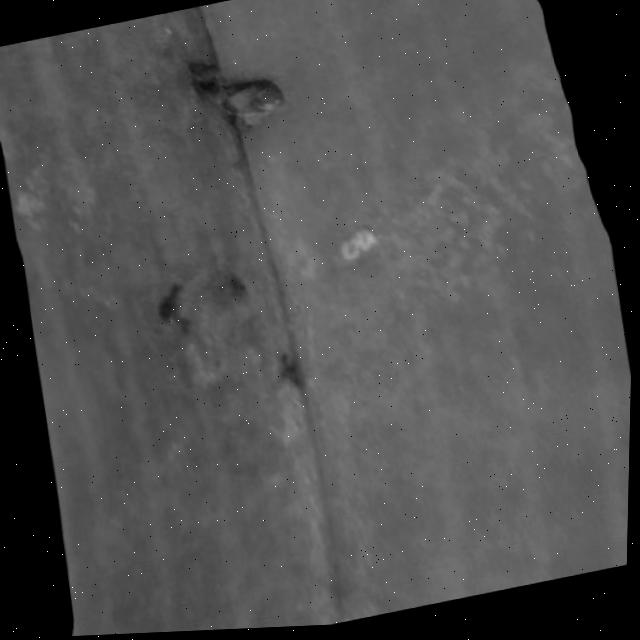mite: (105, 10, 432, 449), (148, 238, 311, 419), (330, 215, 394, 279), (268, 341, 317, 403), (186, 54, 229, 104), (277, 348, 309, 395), (156, 287, 185, 326), (197, 73, 225, 101)
sunburn: (181, 40, 297, 152)
